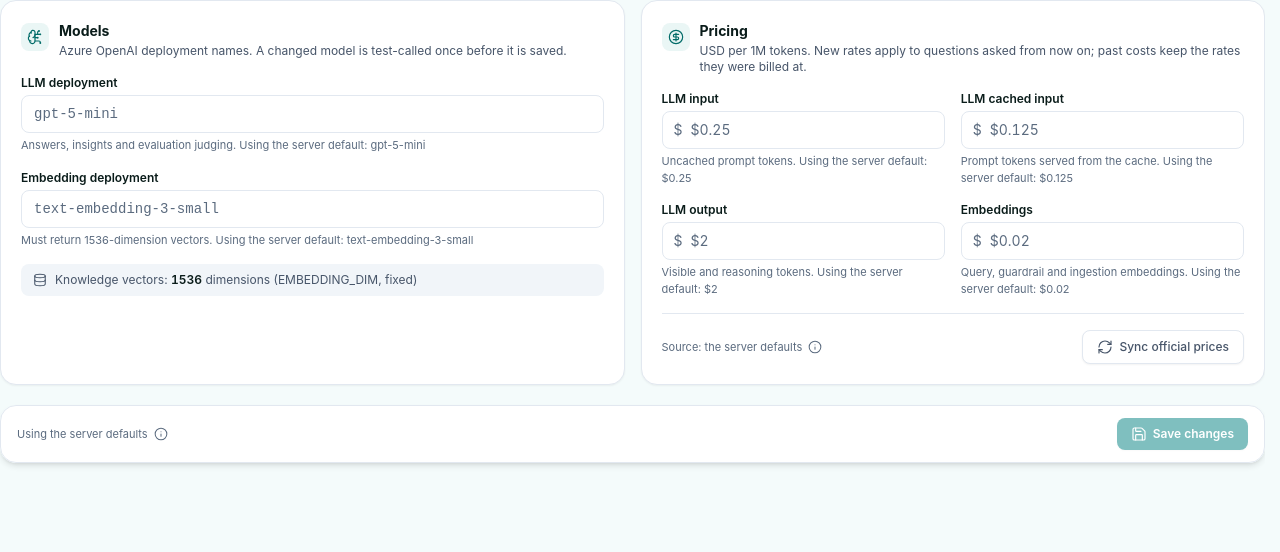
Test: Settings → Models & Pricing › shows the server's reason when a model cannot be used
The width and height of the screenshot is (1280, 552).
Type "nope" into the field labelled "LLM deployment". click: [312, 114]
box: [21,95,604,133]
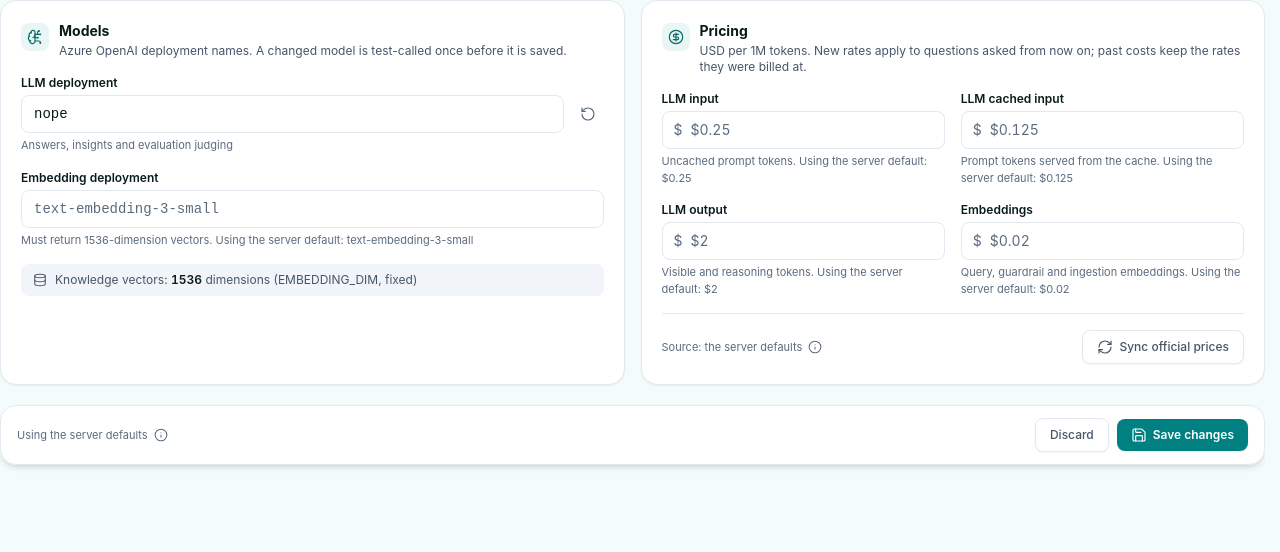
Click the button "Save changes". click: [1182, 435]
box: [1117,419,1248,451]
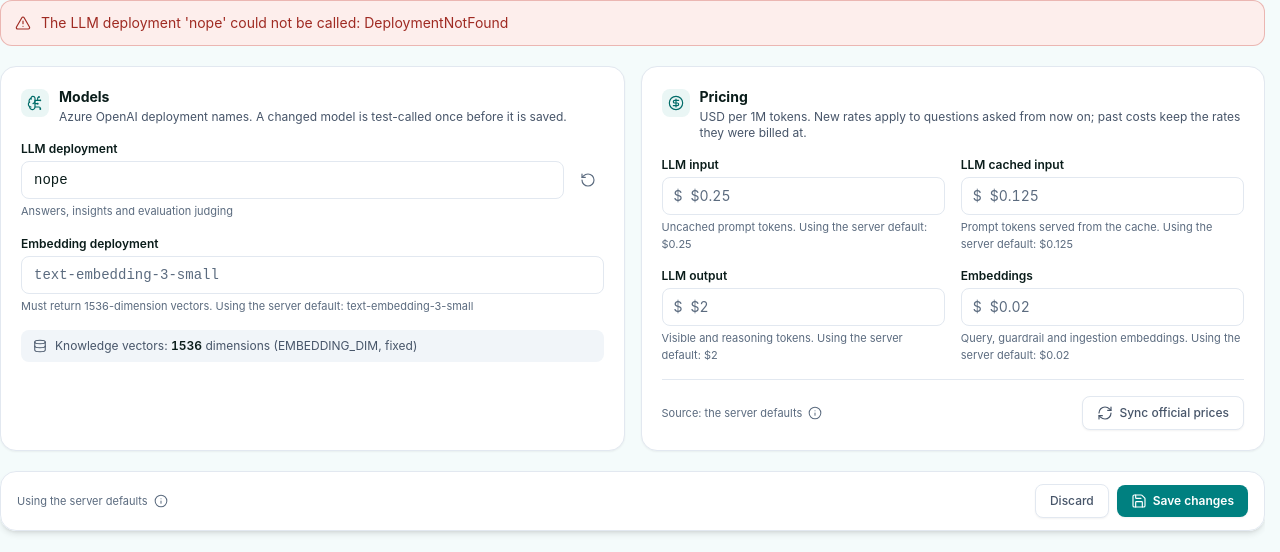
Check: the message reads "The LLM deployment 'nope' could not be called: DeploymentNotFound", box [41,14,508,31]
